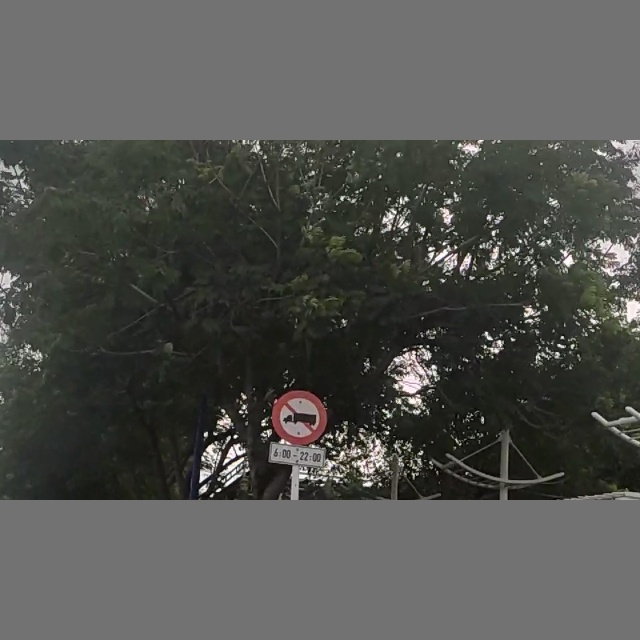B.8a: (269, 389, 323, 464)
